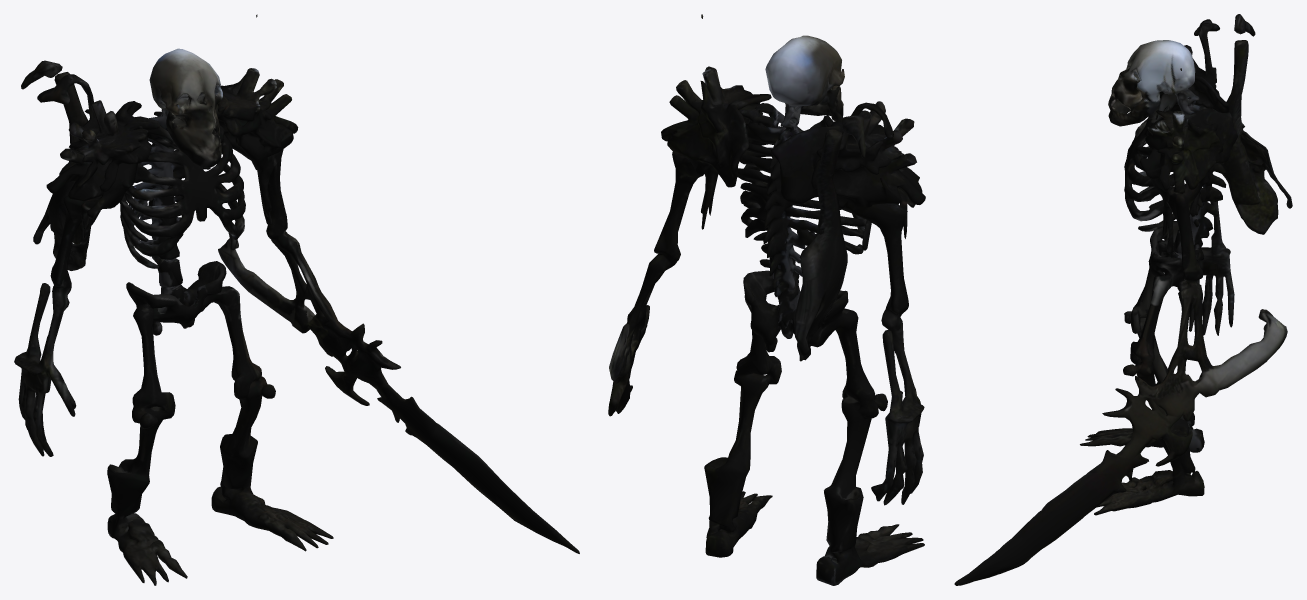
File: Dark_skeleton_Warrior_0825205505.fbx
The picture shows the model from 3 angles, left to right: view 1: azimuth 30°, elevation 25°; view 2: azimuth 150°, elevation 25°; view 3: azimuth 270°, elevation 25°; orthographic projection. The views are drawn at different scales.
Parts seen in each view (by area): view 1: Mesh_0; view 2: Mesh_0; view 3: Mesh_0.
Part boxes in pixels (x1,y1,x2,y2): Mesh_0: (14,14,579,585); Mesh_0: (608,14,925,585); Mesh_0: (954,14,1292,585).
Bounding box in the file's own units: 179 × 205 × 144.
Materials: 1 (1 with a texture image).
